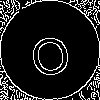O: (25, 25, 74, 79)
